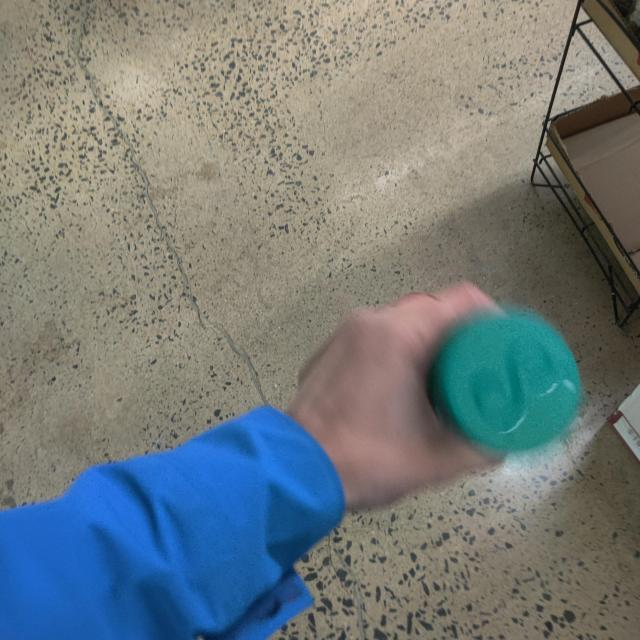Juice: (440, 316, 596, 463)
